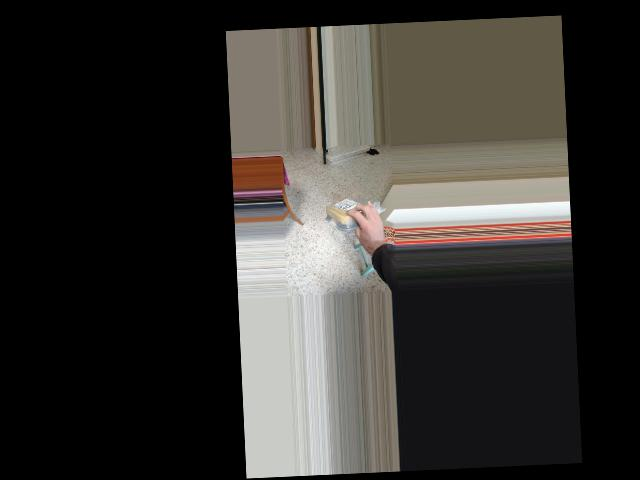cheese: (323, 196, 369, 227)
